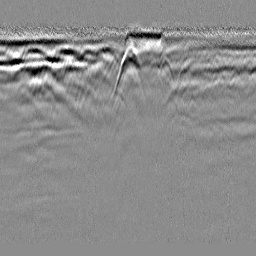cavity: (110, 42, 146, 101)
